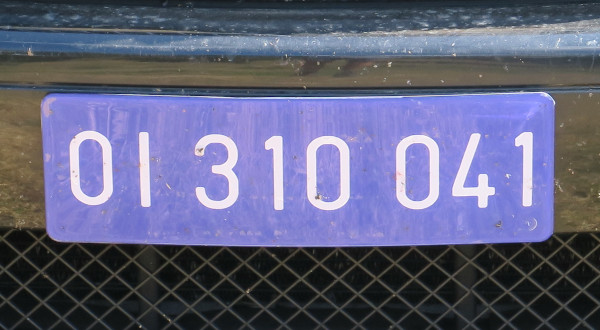license_plate: (42, 90, 556, 246)
